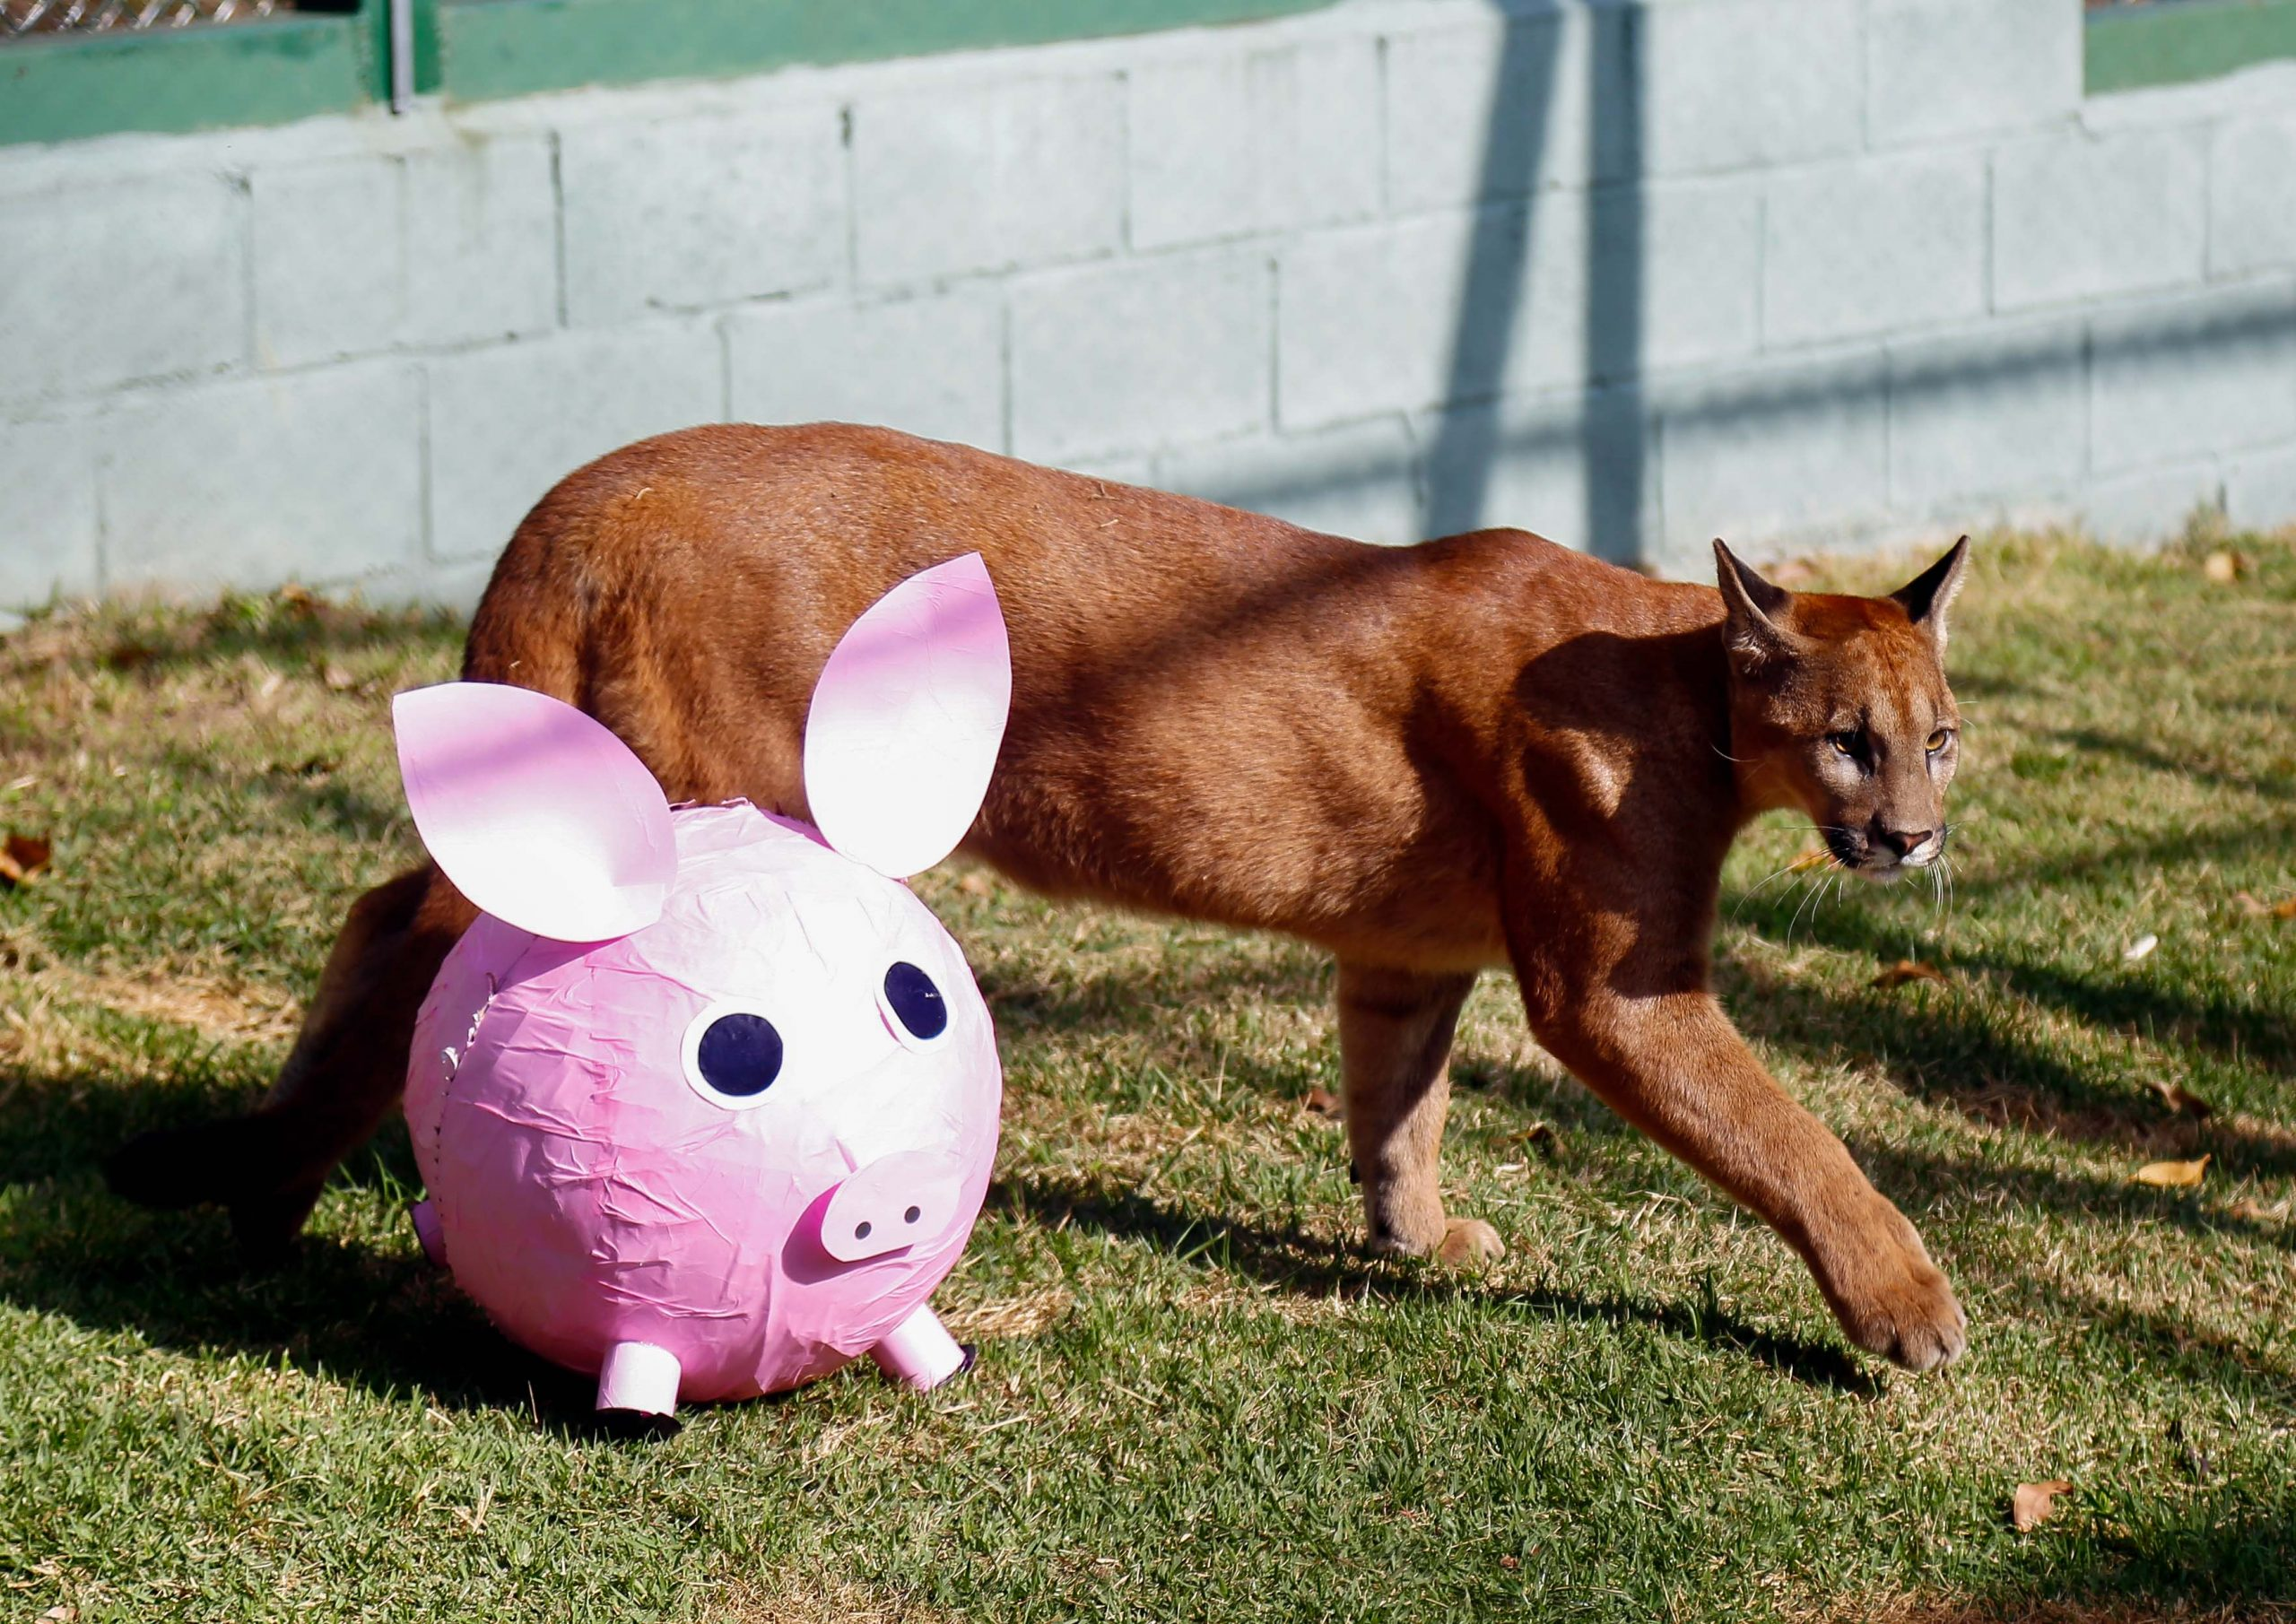OncaParda: (399, 415, 2045, 1396)
